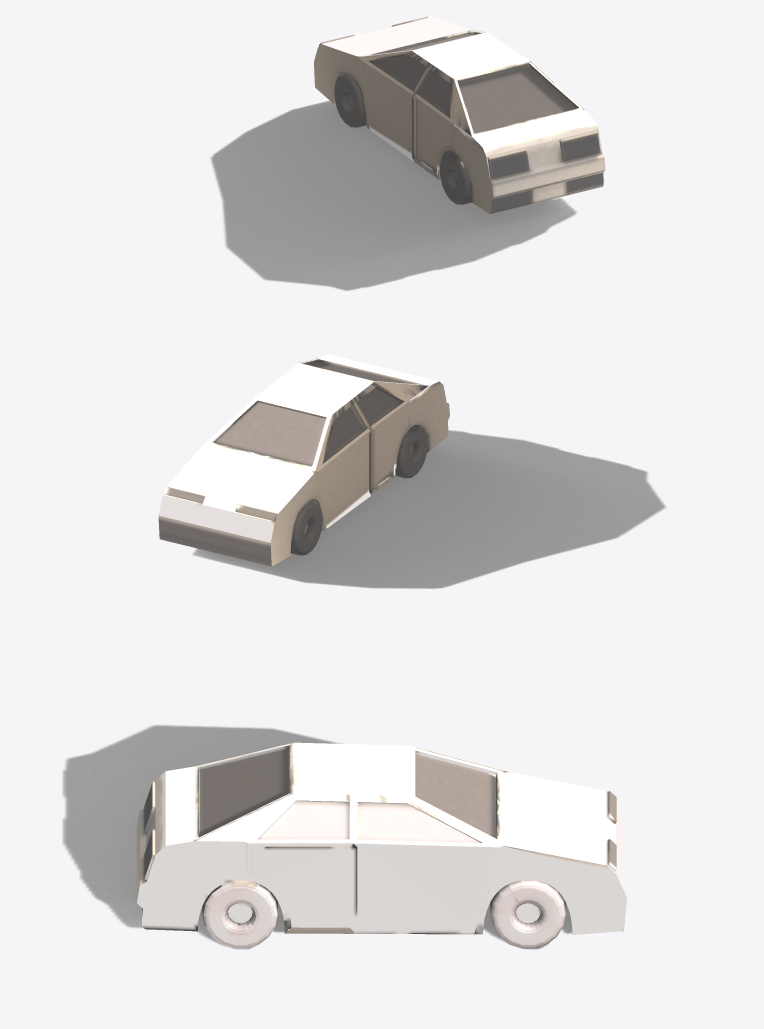
File: car.glb
The picture shows the model from 3 angles, top to bottom: view 1: azimuth 30°, elevation 25°; view 2: azimuth 150°, elevation 25°; view 3: azimuth 270°, elevation 25°; orthographic projection. The views are drawn at different scales.
Parts seen in each view (by area): view 1: Car_Shadows, Car; view 2: Car, Car_Shadows; view 3: Car, Car_Shadows.
Boxes of the visible parts, x1,y1,x2,y2 form: Car_Shadows: (210,100,576,290); Car: (314,15,605,214); Car: (158,354,449,566); Car_Shadows: (192,430,665,588); Car: (136,742,627,948); Car_Shadows: (62,725,572,949).
Size of the model in its own units: 7.37 by 1.58 by 7.37.
Materials: 2 (2 with a texture image).
